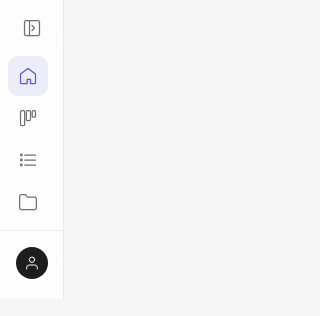
AppSidebar navigation › shows all nav labels when sidebar is expanded
Click the button named "expandir menu".
click(32, 28)  # box [16,12,48,44]
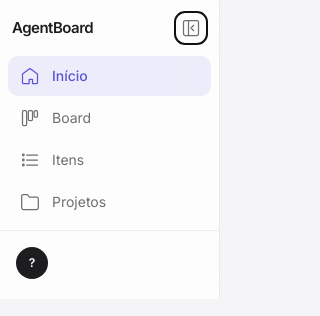
Now the text "Início" is shown, box [52,66,88,86]
Now the text "Board" is shown, box [52,108,91,128]
Now the text "Itens" is shown, box [52,150,84,170]
